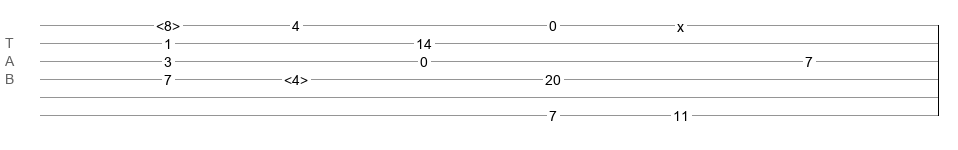0: (420, 54, 428, 64), (549, 18, 557, 28)
1: (164, 36, 172, 46)
11: (673, 108, 689, 118)
14: (416, 36, 432, 46)
20: (545, 72, 561, 82)
3: (164, 54, 172, 64)
4: (292, 18, 300, 28)
7: (164, 72, 172, 82), (549, 108, 557, 118), (805, 54, 813, 64)
harmonic: (156, 18, 180, 28), (284, 72, 308, 82)
x: (677, 19, 684, 27)
